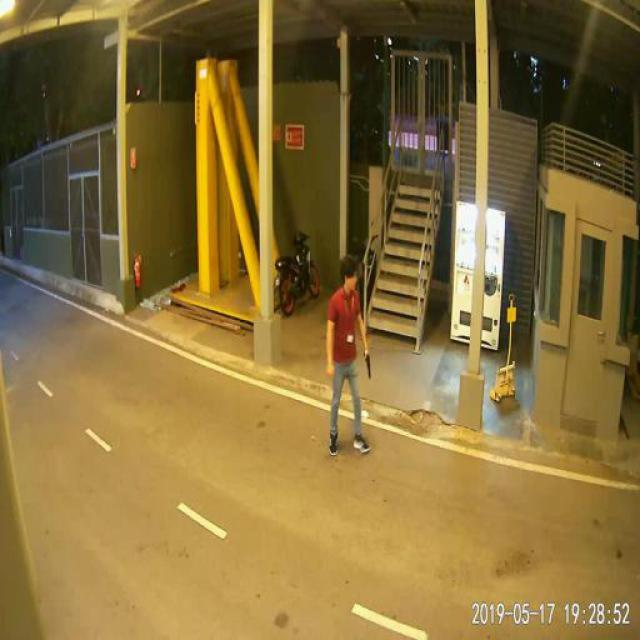weapon: (362, 349, 372, 382)
